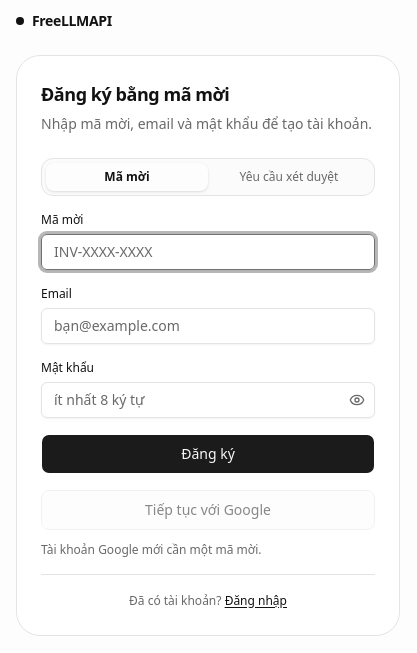
Test: renders the whole register view in the selected locale
This screenshot has width=417, height=653.
Click the button "Yêu cầu xét duyệt".
click(289, 176)  # box [208,162,370,190]
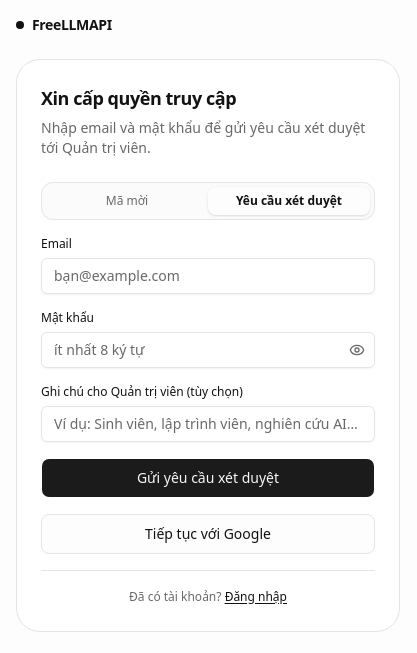
Expected: the text "Xin cấp quyền truy cập" is shown, [41,86,236,110]
Expected: the text "Ghi chú cho Quản trị viên (tùy chọn)" is shown, [41,382,243,400]
Expected: the text "gửi yêu cầu xét duyệt" is shown, [41,118,365,156]
